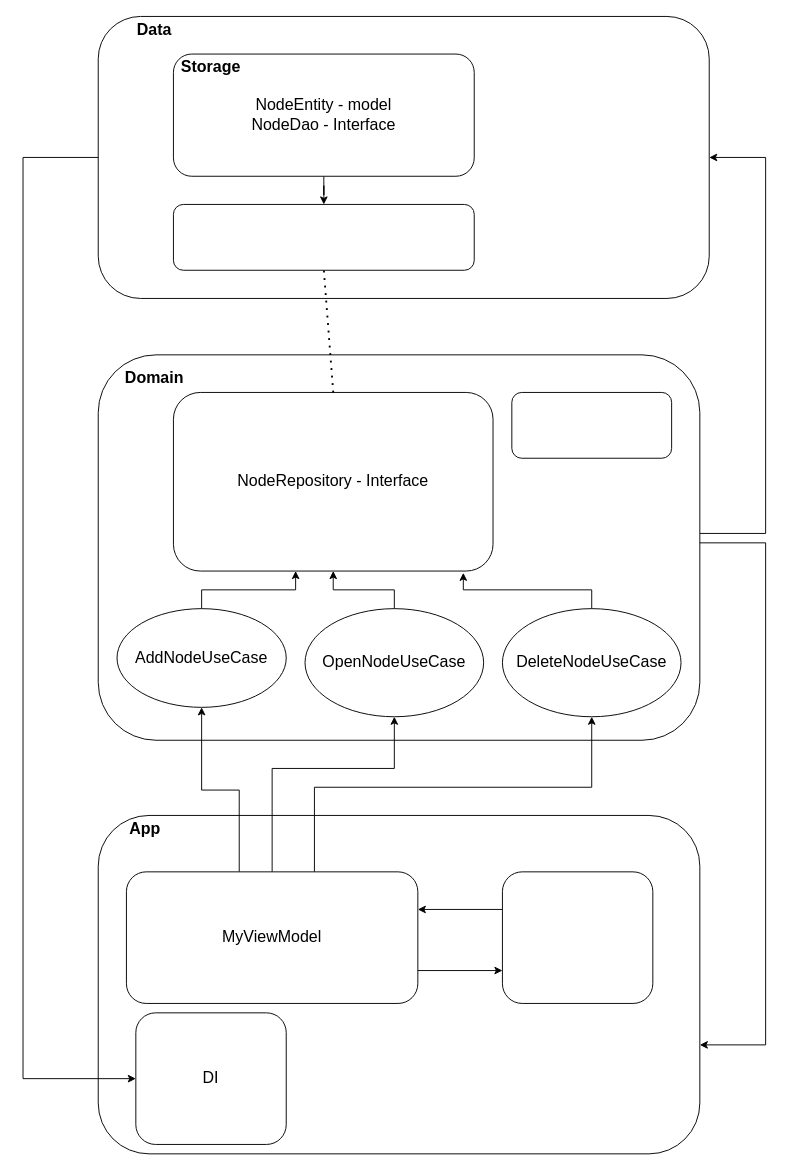
Some shapes in this 790 by 1170 pixel diagram are drawn without their labels. The shapes that lost their labels are listed below. From the top down, each one's centre as x and y in pixels, then its label:
At (323,237): "NodeRepositoryImpl - Implementation".
At (591,425): "Node - model".
At (577,937): "UI".
